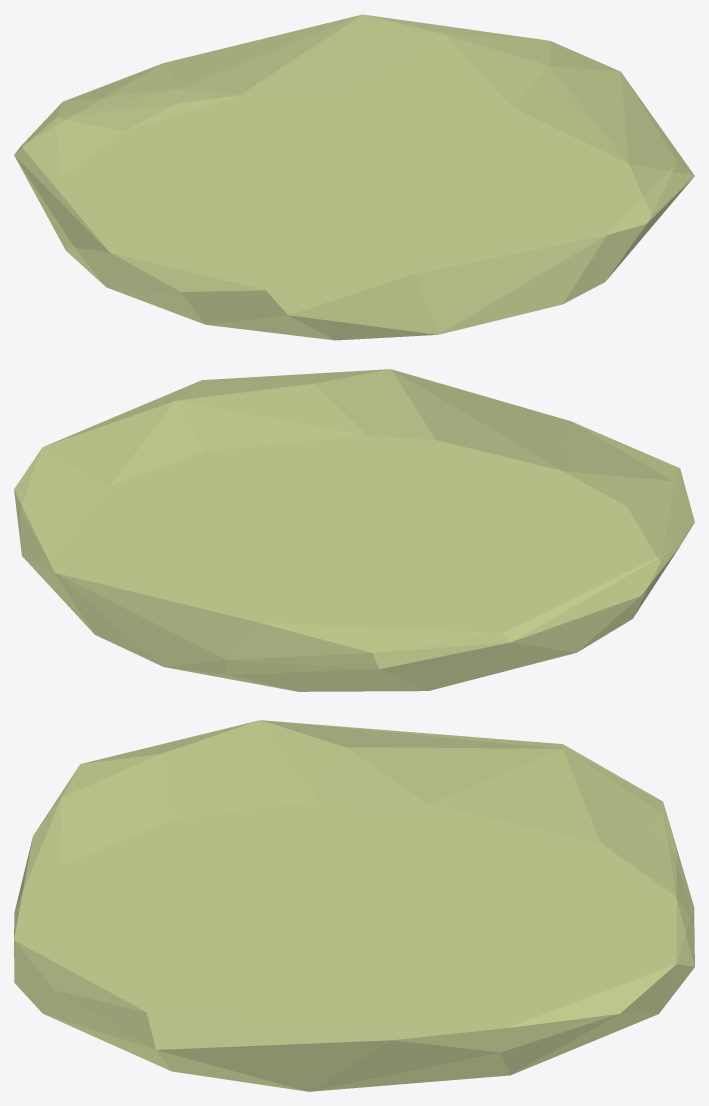
3 views of the same model, one above another, from view 1: azimuth 30°, elevation 25°; view 2: azimuth 150°, elevation 25°; view 3: azimuth 270°, elevation 25° (orthographic). The views are drawn at different scales.
Visible parts, largest first — view 1: Shape_IndexedFaceSet.002_Shape_IndexedFaceSet.10749; view 2: Shape_IndexedFaceSet.002_Shape_IndexedFaceSet.10749; view 3: Shape_IndexedFaceSet.002_Shape_IndexedFaceSet.10749.
Boxes of the visible parts, <box> form: Shape_IndexedFaceSet.002_Shape_IndexedFaceSet.10749: <box>14,14,694,340</box>; Shape_IndexedFaceSet.002_Shape_IndexedFaceSet.10749: <box>14,369,694,691</box>; Shape_IndexedFaceSet.002_Shape_IndexedFaceSet.10749: <box>14,720,694,1091</box>.
Bounding box in the file's own units: 0.3111 × 0.0307 × 0.2797.
